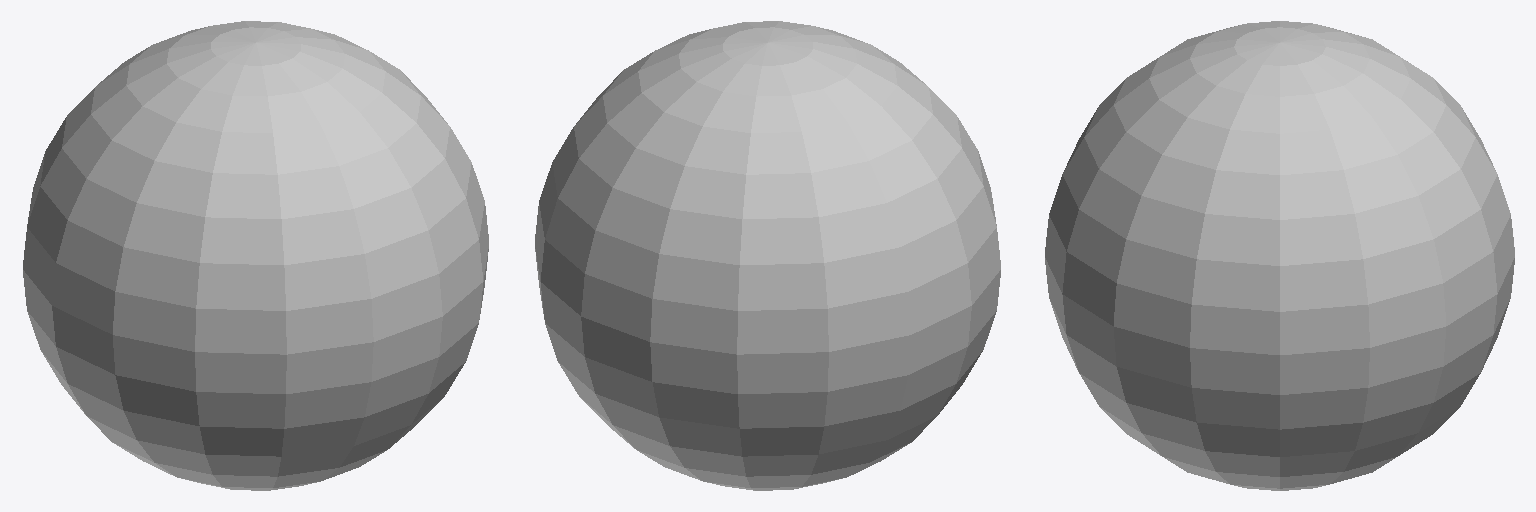
File: occulus.obj
3 renders of one model, left to right at view 1: azimuth 30°, elevation 25°; view 2: azimuth 150°, elevation 25°; view 3: azimuth 270°, elevation 25°, orthographic.
Parts seen in each view (by area): view 1: Sphere_Sphere.005; view 2: Sphere_Sphere.005; view 3: Sphere_Sphere.005.
Part boxes in pixels (bbox=[...]): Sphere_Sphere.005: bbox=[23, 21, 488, 490]; Sphere_Sphere.005: bbox=[535, 21, 1000, 490]; Sphere_Sphere.005: bbox=[1045, 21, 1514, 490].
Bounding box in the file's own units: 0.5 × 0.5 × 0.5.